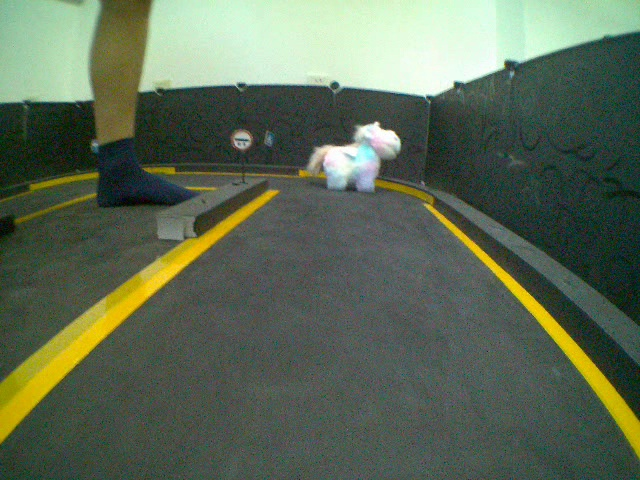unicorn: (302, 113, 403, 199)
